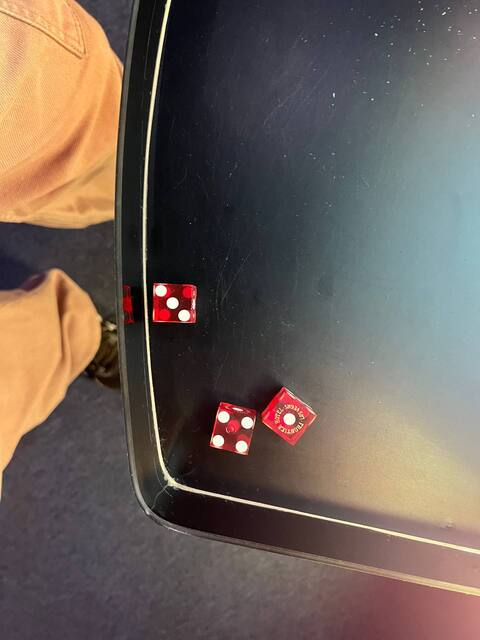four: (209, 407, 255, 456)
one: (264, 392, 314, 445)
three: (150, 281, 194, 325)
